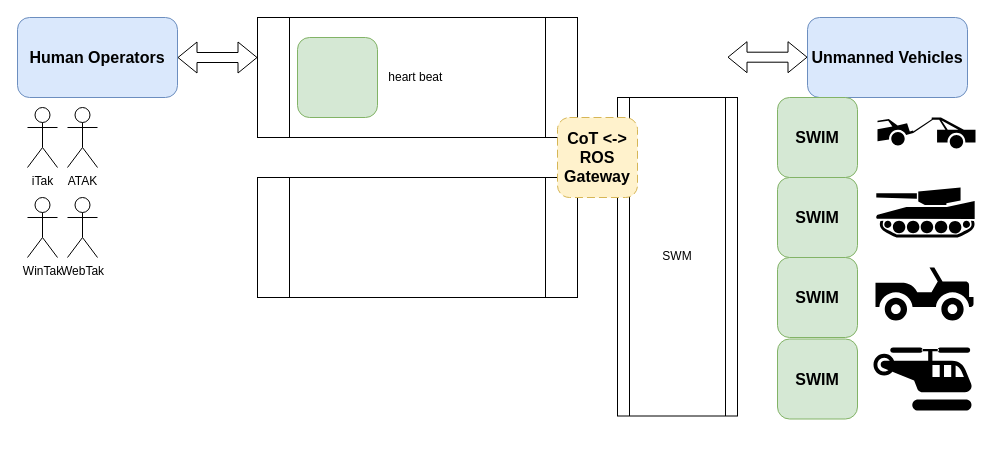
This 993x449 diagram has some shape labels left out. The centre of each missing label's shape, as x and y in pixels:
"ExTor" belongs at (926,132).
"Jeep" belongs at (924,293).
"OPV" belongs at (923,378).
"QGIS" belongs at (417,237).
"TAK Server" belongs at (337,77).
"UGVs" belongs at (925,212).
